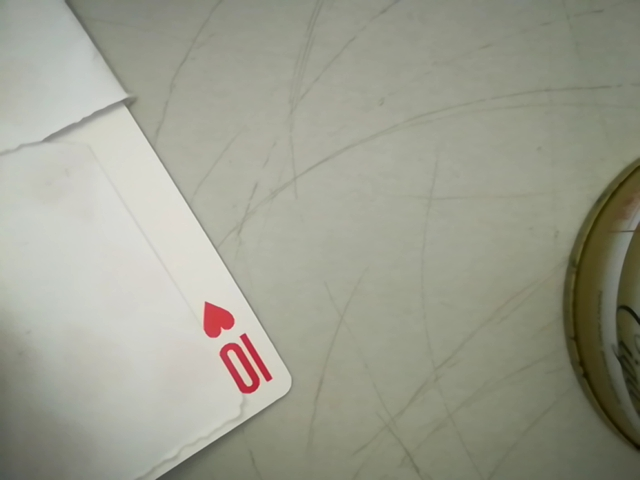hx 10: (196, 292, 277, 413)
